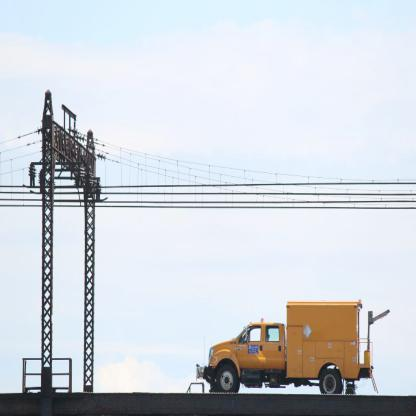Truck: (198, 312, 382, 410)
